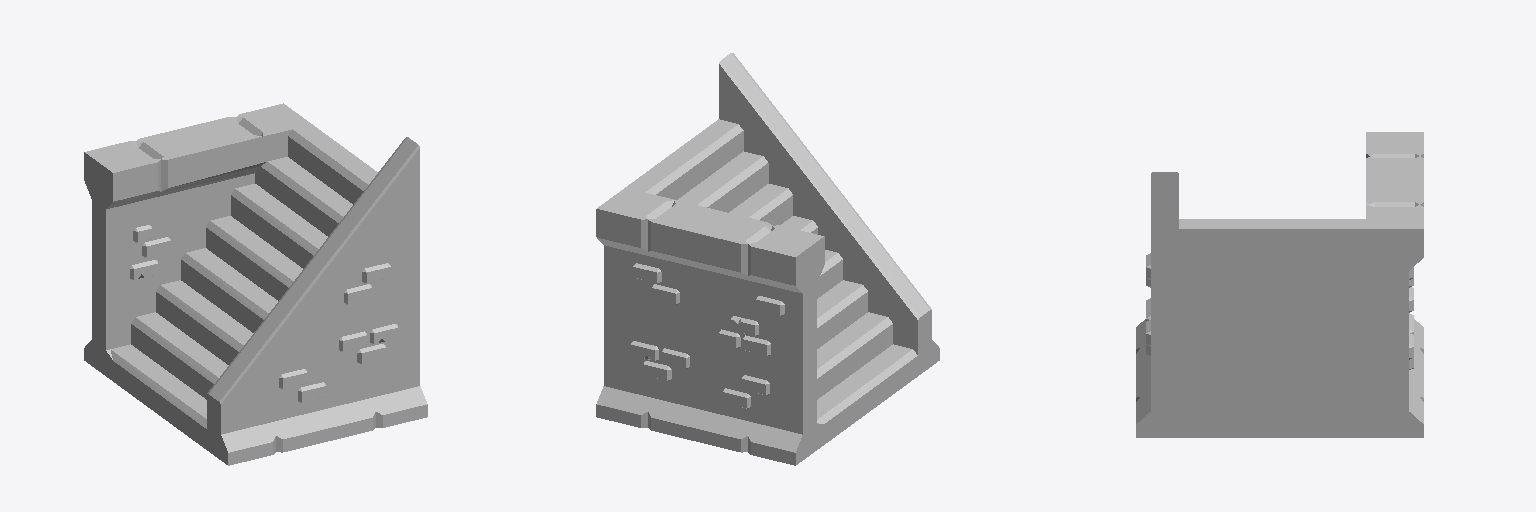
File: stairs_wall_right.obj
3 views of the same model, side by side, from view 1: azimuth 30°, elevation 25°; view 2: azimuth 150°, elevation 25°; view 3: azimuth 270°, elevation 25° (orthographic).
Parts seen in each view (by area): view 1: stairs_wall_right_Cube.13927; view 2: stairs_wall_right_Cube.13927; view 3: stairs_wall_right_Cube.13927.
Part boxes in pixels (x1,y1,x2,y2): stairs_wall_right_Cube.13927: (84,103,427,465); stairs_wall_right_Cube.13927: (596,53,939,465); stairs_wall_right_Cube.13927: (1136,132,1423,437).
Size of the model in its own units: 4 by 5.1 by 5.